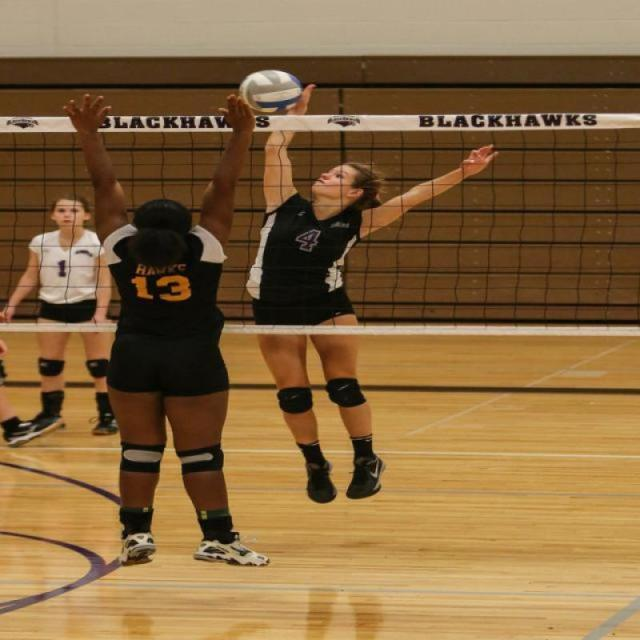volleyball: (239, 67, 310, 118)
